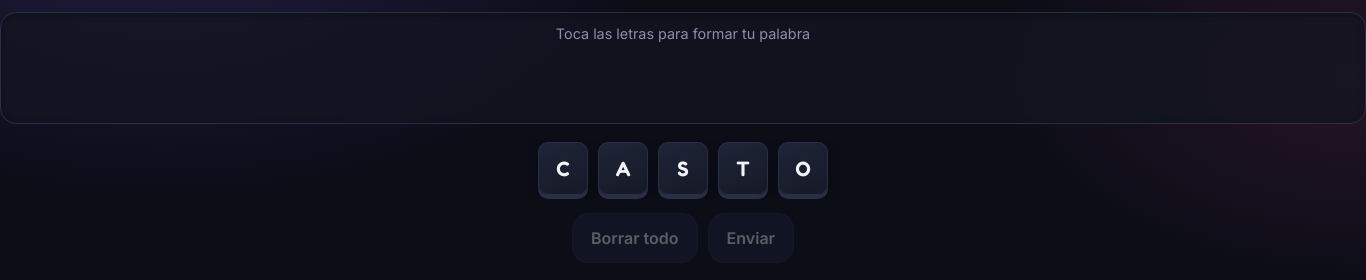
Test case: LetterBoard › desactiva la ficha usada y la reactiva al quitarla de la respuesta
The image size is (1366, 280).
Click the button "C" at (563, 169), box [538,142,588,195]
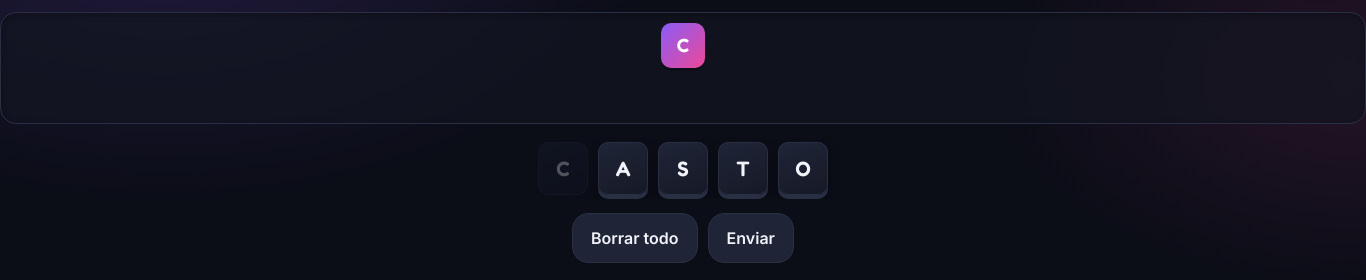
Now the 2nd button "C" is disabled, box [538,142,588,195]
Click the button named "Quitar C" at (683, 45), box [661,23,705,68]
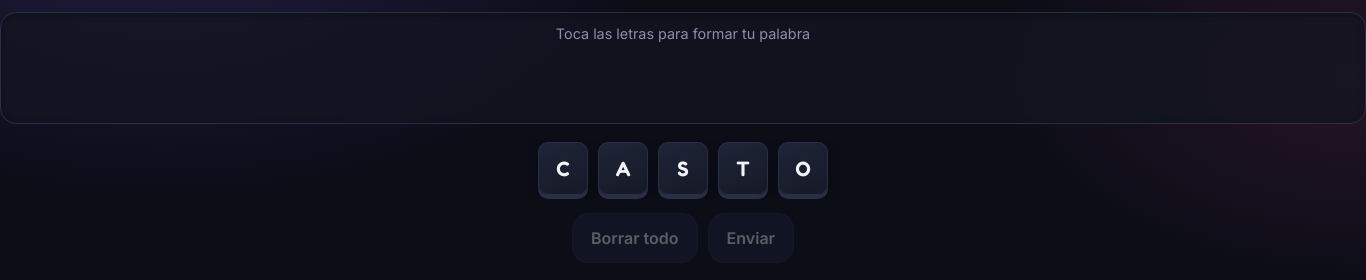
Now the button "C" is enabled, box [538,142,588,195]
